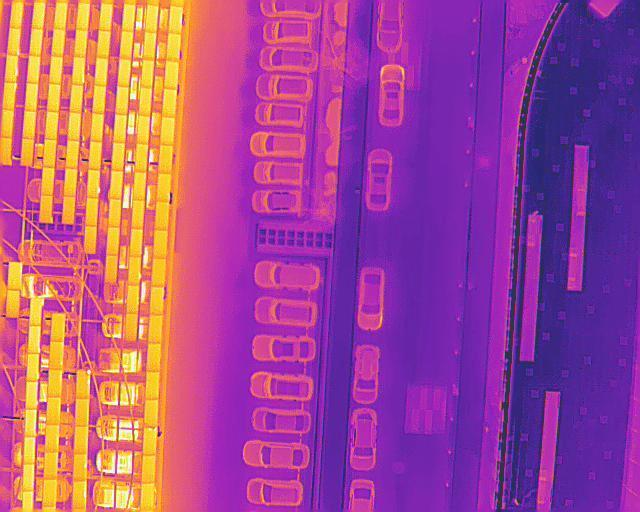Cell: (77, 370, 91, 398), (74, 454, 87, 481)
Cell-Multi: (144, 426, 157, 455)
No-Anomaly: (31, 2, 46, 30), (24, 83, 38, 112), (97, 30, 111, 59), (27, 56, 41, 85), (22, 111, 36, 140), (152, 258, 166, 287), (2, 82, 16, 110), (88, 142, 102, 170), (21, 138, 35, 166), (99, 3, 113, 31), (76, 3, 90, 31), (154, 231, 168, 259), (106, 227, 120, 255), (51, 29, 65, 57), (51, 314, 65, 342), (146, 371, 160, 399), (120, 30, 133, 60), (43, 480, 57, 507), (95, 59, 109, 86), (10, 2, 24, 29), (8, 262, 22, 289), (7, 29, 21, 56), (163, 88, 176, 117), (141, 59, 154, 88), (50, 55, 63, 84), (108, 198, 121, 227), (67, 140, 80, 169), (160, 144, 173, 173), (132, 200, 145, 229), (156, 201, 169, 230), (149, 315, 162, 344), (47, 84, 60, 112), (46, 425, 59, 453), (75, 30, 88, 58), (116, 87, 129, 115), (75, 426, 88, 454), (143, 455, 156, 483), (72, 57, 85, 85), (118, 59, 131, 87), (70, 85, 83, 113), (1, 109, 14, 137), (68, 112, 81, 140), (91, 113, 104, 141), (54, 3, 68, 29), (43, 140, 56, 168), (85, 198, 98, 226), (42, 168, 55, 196), (62, 197, 75, 225), (64, 169, 77, 197), (170, 6, 183, 34), (106, 255, 119, 283), (7, 289, 20, 317), (49, 369, 62, 397), (148, 343, 161, 371), (51, 342, 64, 370), (30, 28, 43, 56), (47, 397, 60, 425), (76, 399, 89, 427), (93, 87, 106, 114), (45, 453, 58, 480), (143, 32, 156, 59), (5, 56, 18, 83), (141, 482, 154, 509), (45, 112, 58, 139), (110, 172, 123, 199), (84, 226, 97, 253), (136, 144, 148, 173), (158, 173, 170, 202), (146, 6, 159, 32), (122, 5, 135, 31), (40, 196, 53, 222), (166, 61, 178, 89), (25, 409, 37, 437), (113, 143, 125, 171), (162, 117, 174, 145), (114, 115, 126, 143), (0, 138, 12, 166), (88, 170, 100, 198), (152, 287, 164, 315), (27, 354, 39, 382), (26, 381, 38, 409), (146, 399, 158, 427), (168, 34, 180, 61), (140, 88, 152, 115), (134, 173, 146, 200), (126, 314, 138, 341), (139, 115, 150, 144), (131, 228, 142, 257), (128, 285, 139, 314), (129, 258, 141, 284), (29, 326, 40, 354), (25, 437, 36, 464), (24, 464, 35, 491), (30, 299, 41, 326)
Unclassified: (73, 481, 87, 509)
